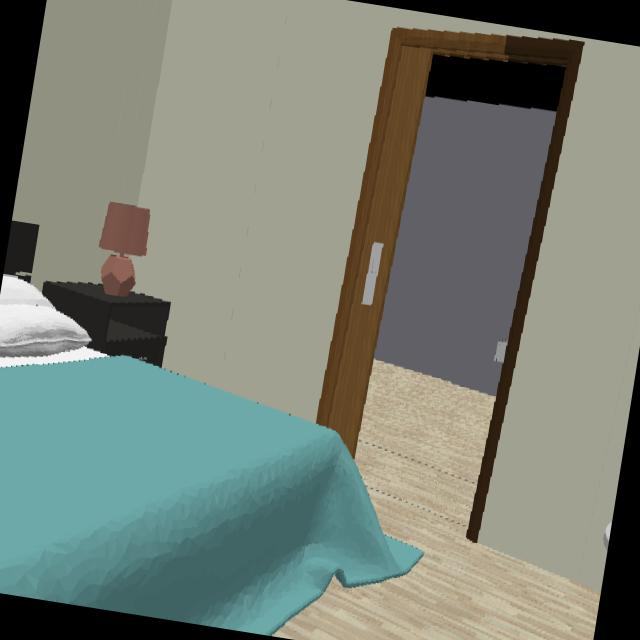bed: (0, 221, 424, 636)
lamp: (98, 202, 151, 298)
nighttable: (41, 283, 172, 366)
pillow: (0, 275, 92, 358)
